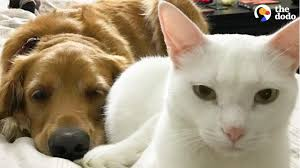cat: (154, 1, 300, 153)
dog: (2, 33, 135, 162)
